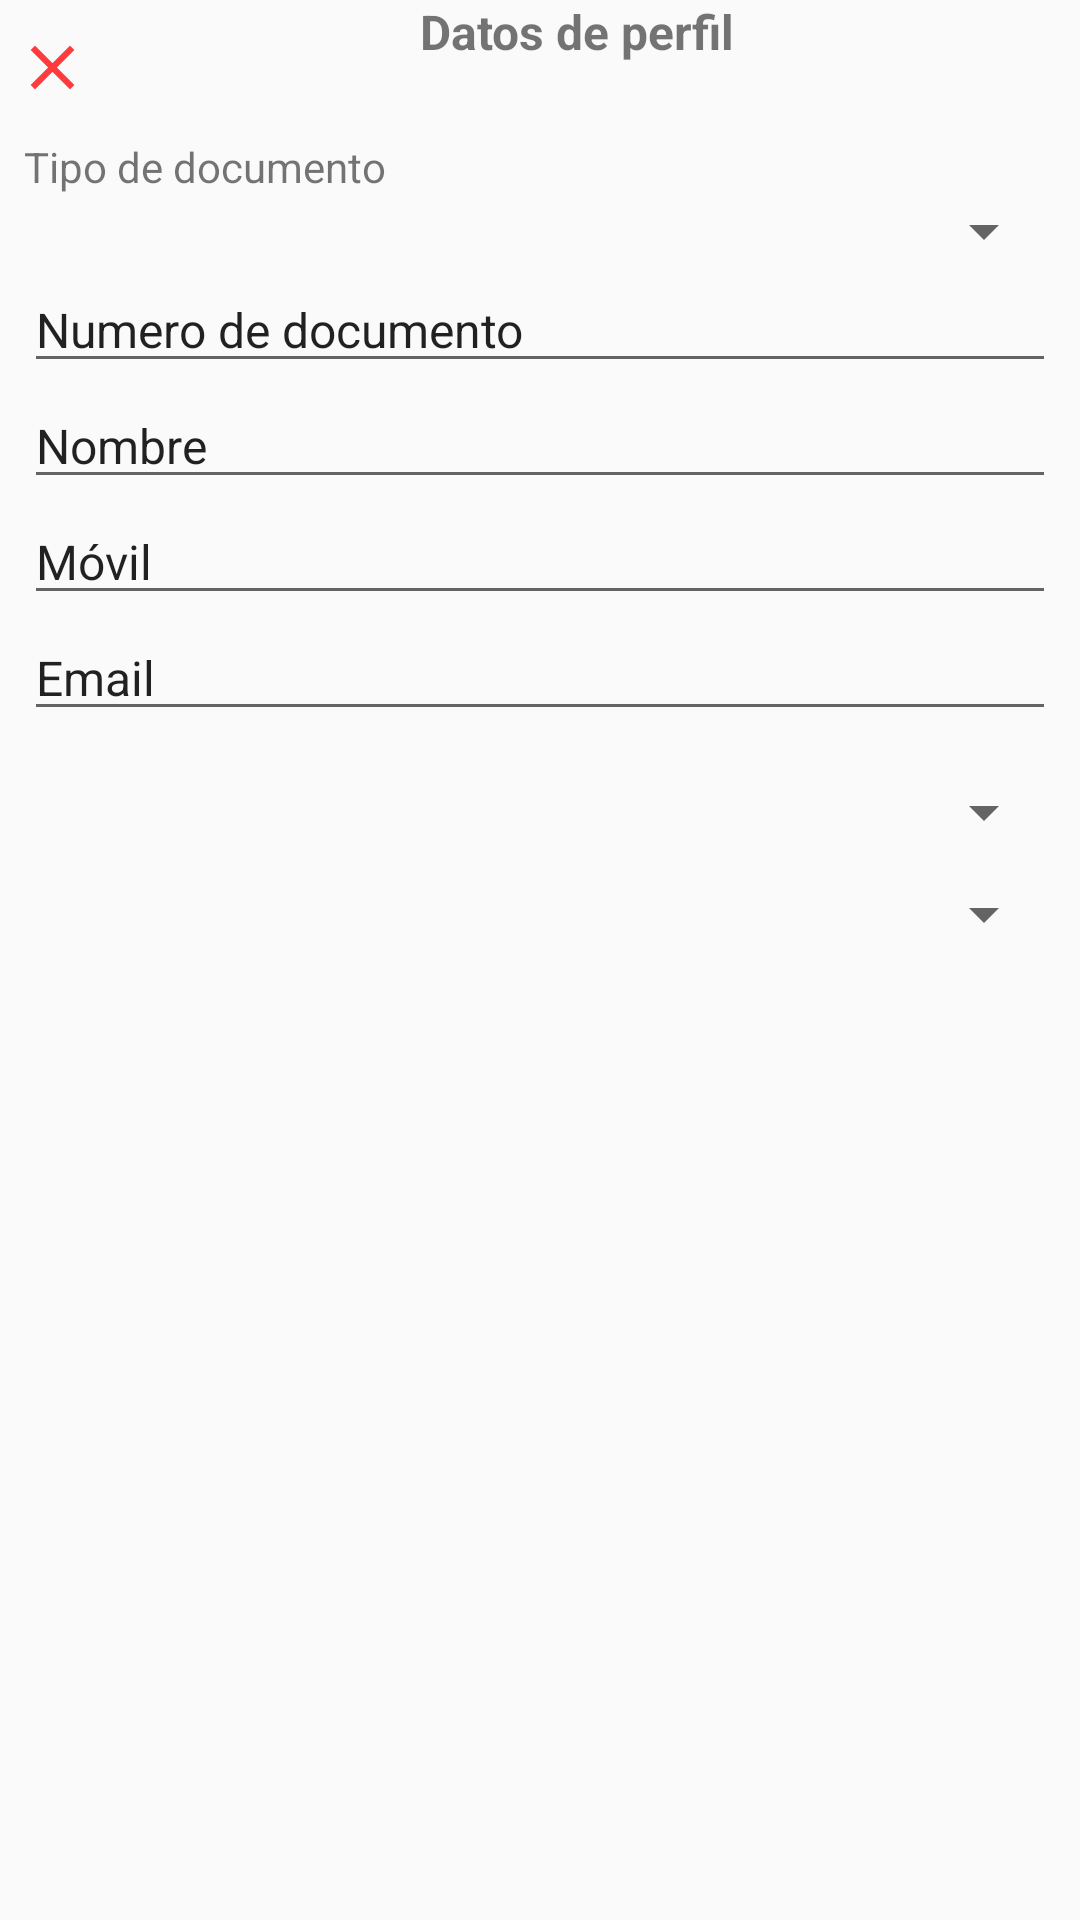

Screen size 1080×1920. Icon name, then its box in pixels as (x1, y1, x2, y2):
close: (31, 46, 74, 89)
